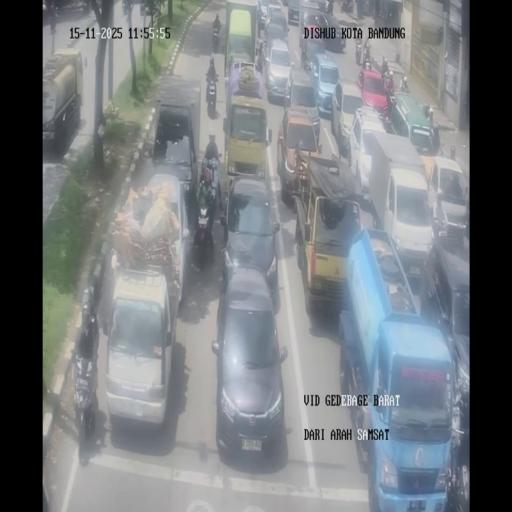car: (212, 271, 287, 463), (103, 267, 178, 433), (218, 176, 280, 301), (277, 106, 321, 204), (426, 155, 468, 234), (392, 92, 440, 154), (332, 78, 366, 153), (309, 52, 340, 116), (262, 18, 288, 57), (298, 0, 328, 27), (264, 1, 284, 24), (286, 0, 300, 25)
motorcycle: (72, 346, 99, 456), (191, 195, 215, 270), (201, 160, 220, 205), (204, 71, 218, 113), (255, 38, 265, 74), (299, 32, 309, 66), (257, 8, 266, 36), (422, 102, 434, 123), (386, 82, 396, 106), (211, 26, 220, 52), (383, 108, 393, 130), (354, 38, 362, 63), (399, 73, 409, 93), (49, 10, 57, 35), (378, 2, 387, 22), (151, 0, 162, 16), (381, 56, 389, 78), (140, 0, 150, 16), (363, 54, 372, 70), (122, 0, 130, 15), (326, 0, 334, 14), (83, 0, 90, 14), (346, 0, 353, 13)
truck: (340, 233, 455, 508), (293, 156, 363, 316), (364, 134, 432, 263), (150, 79, 203, 214), (223, 93, 270, 196), (42, 48, 84, 150), (224, 0, 258, 76)
